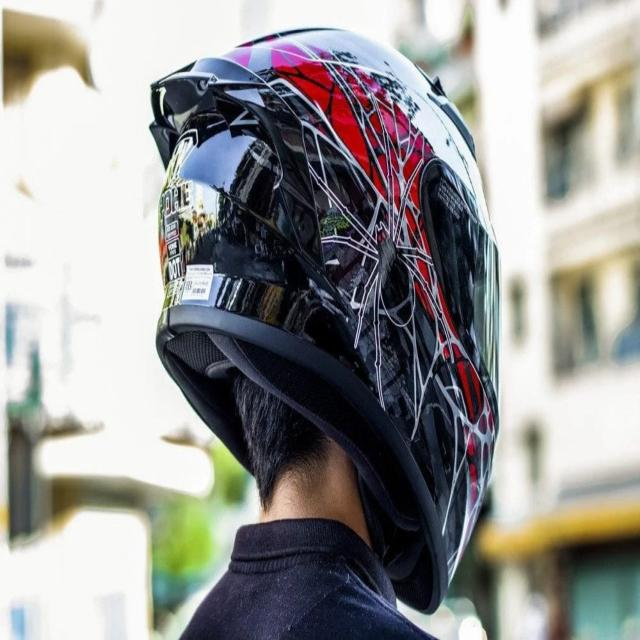Helmet: (146, 24, 504, 612)
